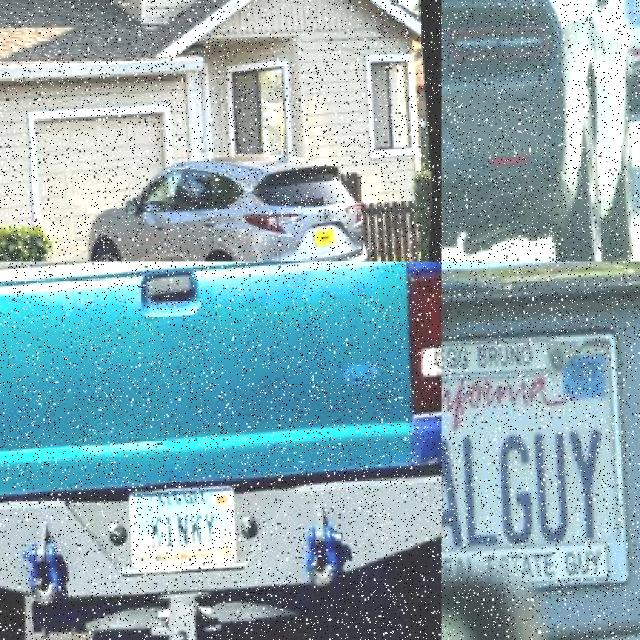licenseplate: (441, 312, 640, 618), (131, 485, 243, 569), (442, 120, 471, 180), (318, 226, 339, 246)
